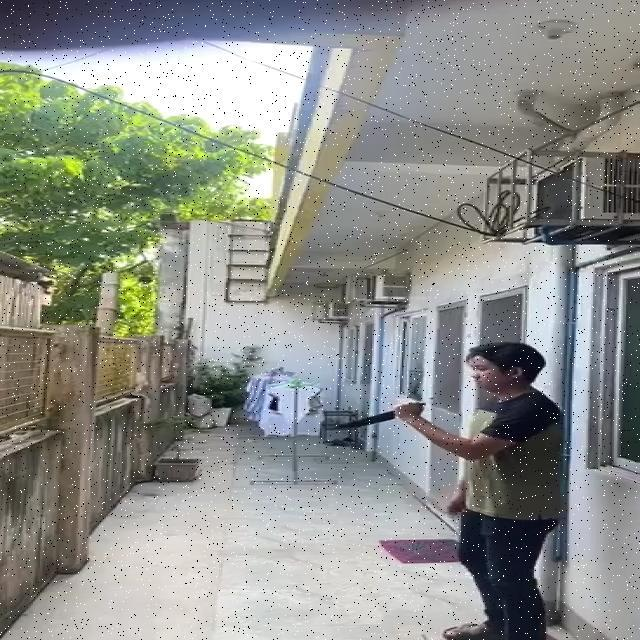knife: (335, 410, 397, 430)
non-violence: (335, 341, 565, 640)
